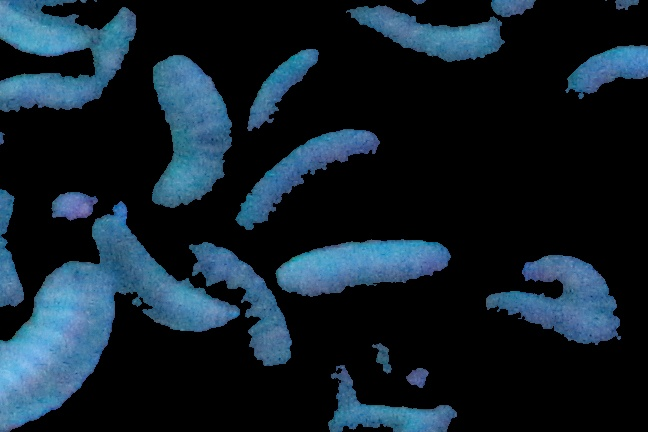larvae: (1, 269, 114, 432), (96, 217, 234, 329), (190, 243, 296, 370), (147, 54, 235, 205), (241, 130, 382, 224), (270, 238, 452, 294), (347, 6, 505, 59), (490, 290, 621, 352), (527, 256, 618, 319), (250, 48, 321, 123), (571, 41, 648, 98), (1, 67, 110, 106), (1, 6, 91, 53)
